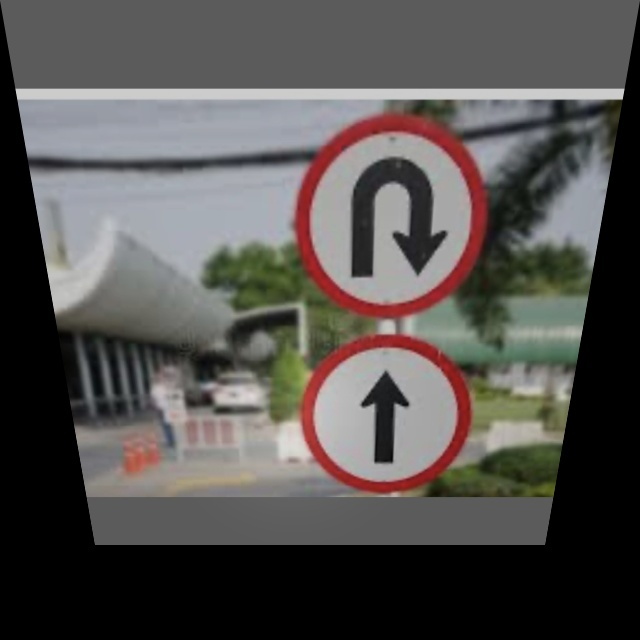U_Turn_Ahead: (297, 117, 498, 308)
